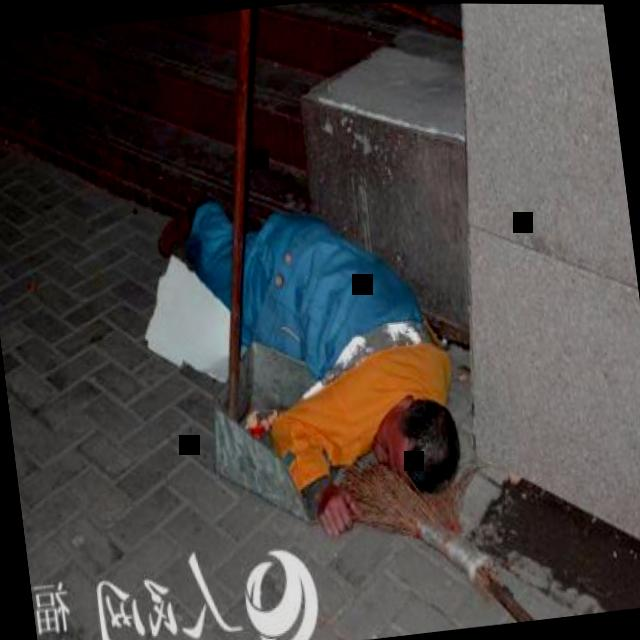Fall-Detected: (121, 141, 488, 554)
